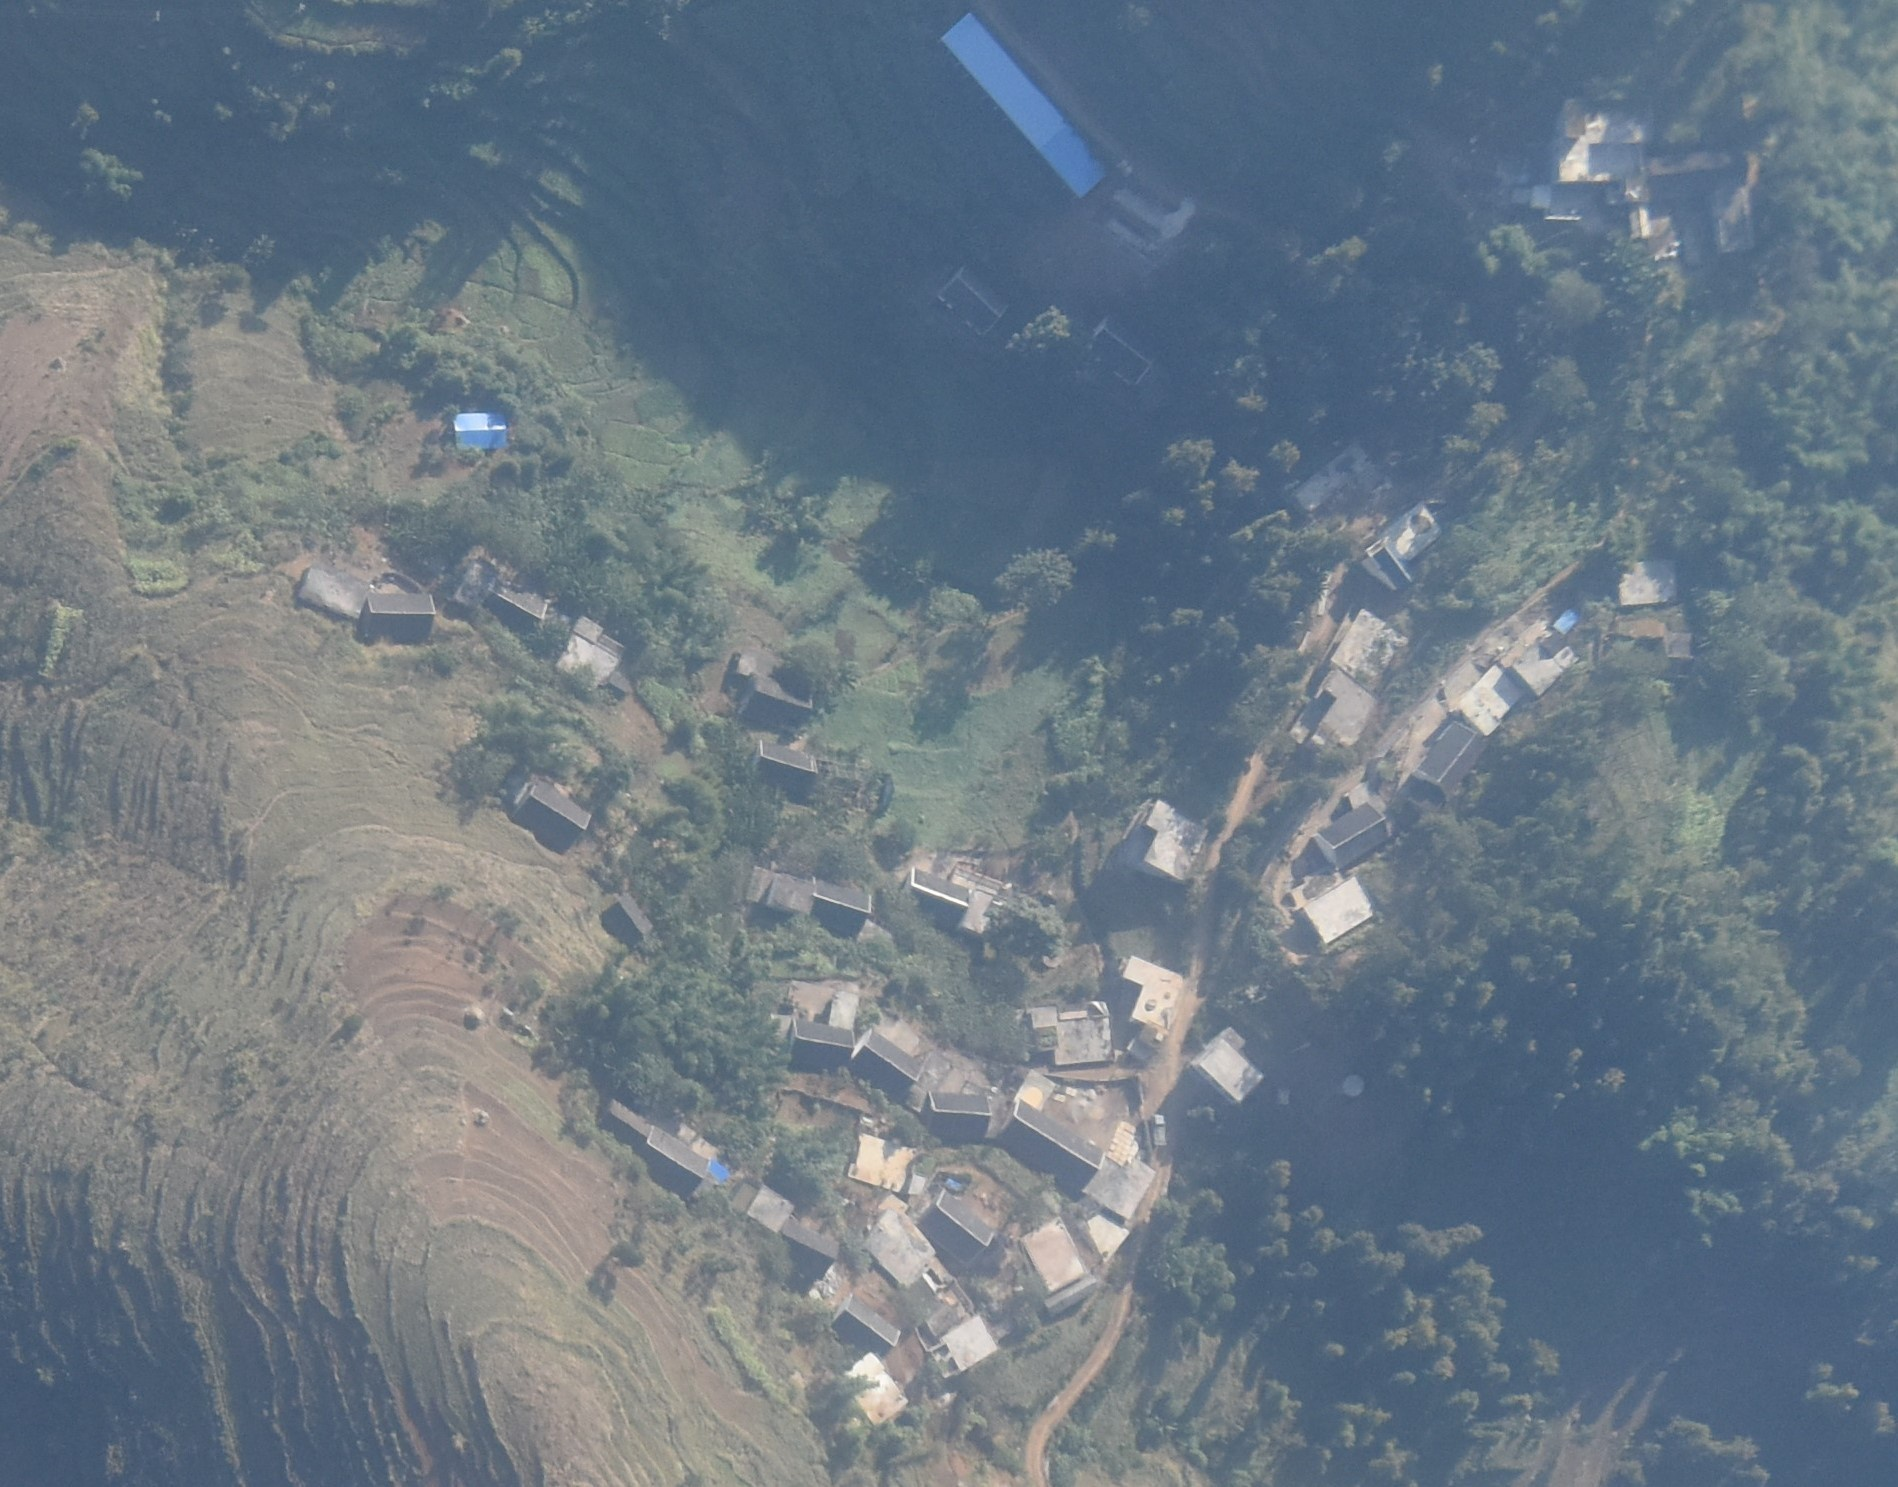building: (1547, 99, 1650, 220), (1001, 1097, 1105, 1191), (1289, 669, 1380, 754), (1125, 798, 1206, 883), (1370, 499, 1444, 587), (1014, 1003, 1115, 1065), (1293, 441, 1373, 516), (1330, 607, 1405, 686), (511, 777, 592, 851), (1083, 314, 1162, 388), (863, 1210, 934, 1290), (556, 615, 625, 697), (739, 653, 813, 729), (1195, 1025, 1265, 1102), (1078, 1151, 1157, 1219), (1021, 1214, 1088, 1293), (847, 1133, 934, 1193), (940, 267, 1011, 337), (1417, 720, 1488, 790), (1316, 803, 1391, 869), (1123, 954, 1185, 1034), (841, 1351, 907, 1425), (920, 1190, 991, 1257), (1650, 149, 1749, 197), (1303, 875, 1373, 943), (850, 1026, 921, 1091), (1460, 663, 1524, 733), (931, 1316, 998, 1381), (646, 1125, 709, 1194), (833, 1294, 901, 1354), (297, 562, 371, 616), (747, 866, 817, 923), (487, 575, 552, 633), (949, 868, 1006, 934), (753, 737, 818, 794), (1513, 638, 1578, 693), (1616, 556, 1685, 607), (789, 1015, 853, 1066), (367, 592, 434, 636), (1715, 179, 1755, 253), (906, 869, 971, 914), (780, 1219, 838, 1268), (810, 874, 874, 918), (601, 894, 655, 945), (931, 1091, 991, 1134), (746, 1183, 796, 1233), (599, 1099, 650, 1143), (1041, 1274, 1097, 1314), (1085, 1214, 1129, 1264), (454, 413, 507, 447), (1630, 206, 1650, 240)
prefabricated-house: (940, 12, 1108, 200), (1551, 609, 1578, 632), (709, 1157, 730, 1182), (941, 1177, 963, 1193)
vehicle: (1155, 1113, 1166, 1146)
well: (1342, 1074, 1368, 1099), (1041, 945, 1061, 968)
